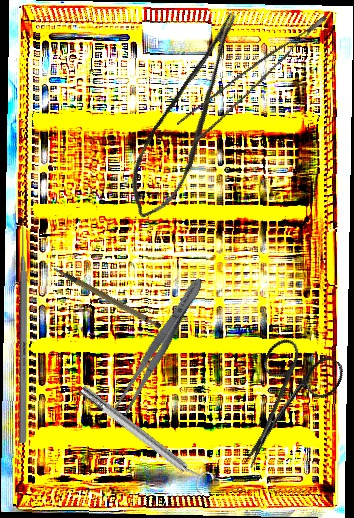Dressing Forceps: (111, 273, 209, 418)
Fixation Ring: (74, 377, 217, 497)
Iris Scissors: (214, 330, 349, 486)
Micro Scissor: (108, 7, 274, 229)
Pusher: (19, 209, 27, 443)
Scalpel Handle: (53, 251, 163, 342)
Tissue Forceps: (171, 15, 345, 146)
